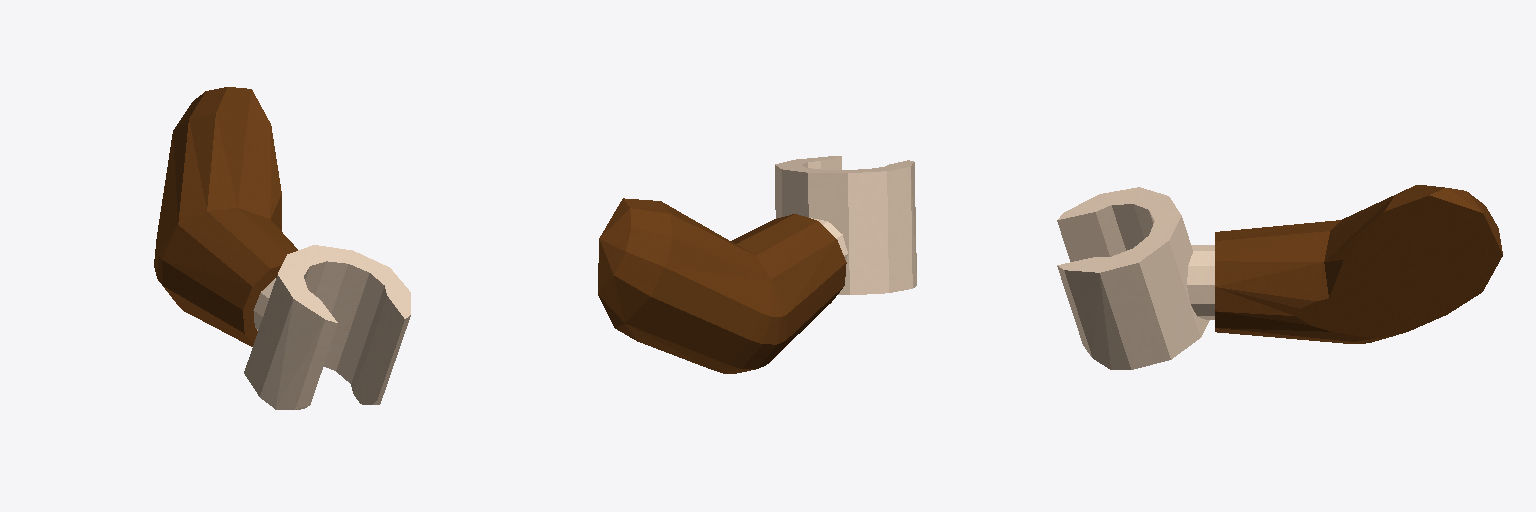
3 renders of one model, left to right at view 1: azimuth 30°, elevation 25°; view 2: azimuth 150°, elevation 25°; view 3: azimuth 270°, elevation 25°, orthographic.
Visible parts, largest first — view 1: brazoDer; view 2: brazoDer; view 3: brazoDer.
Part boxes in pixels (x1,y1,x2,y2): brazoDer: (154,87,410,409); brazoDer: (598,156,916,373); brazoDer: (1057,185,1502,369).
Size of the model in its own units: 5.36 by 6.91 by 14.69.
Materials: 2 (2 with a texture image).